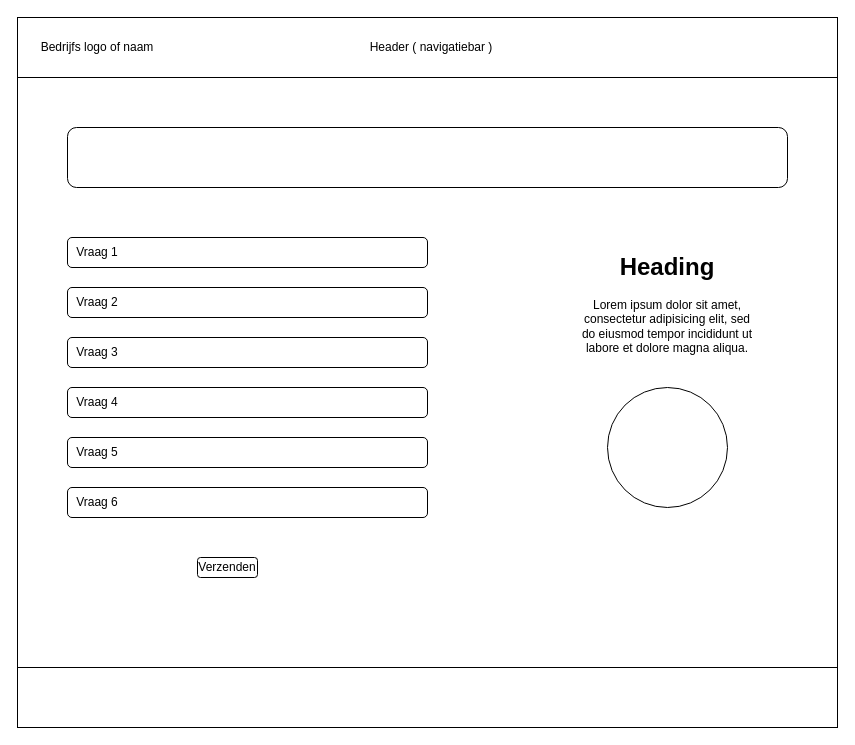
Image size: 855x745. Some labels were removed from this diagram. The box of each missing label's shape, as (x1, y1, x2, y2) in pixels:
Footer: (16, 666, 838, 728)
Formulier Title: (66, 126, 788, 188)
IMG: (606, 386, 728, 508)
